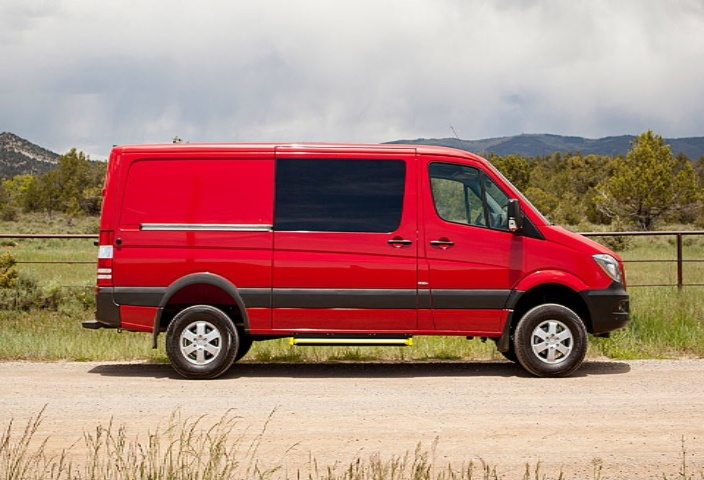van: (36, 113, 652, 400)
